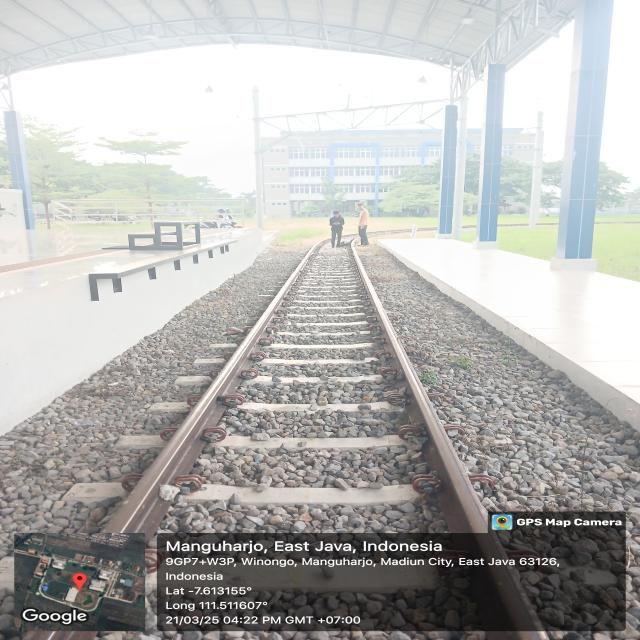rail-detection: (104, 251, 312, 540), (353, 250, 487, 533), (462, 493, 471, 504), (463, 487, 469, 489)
